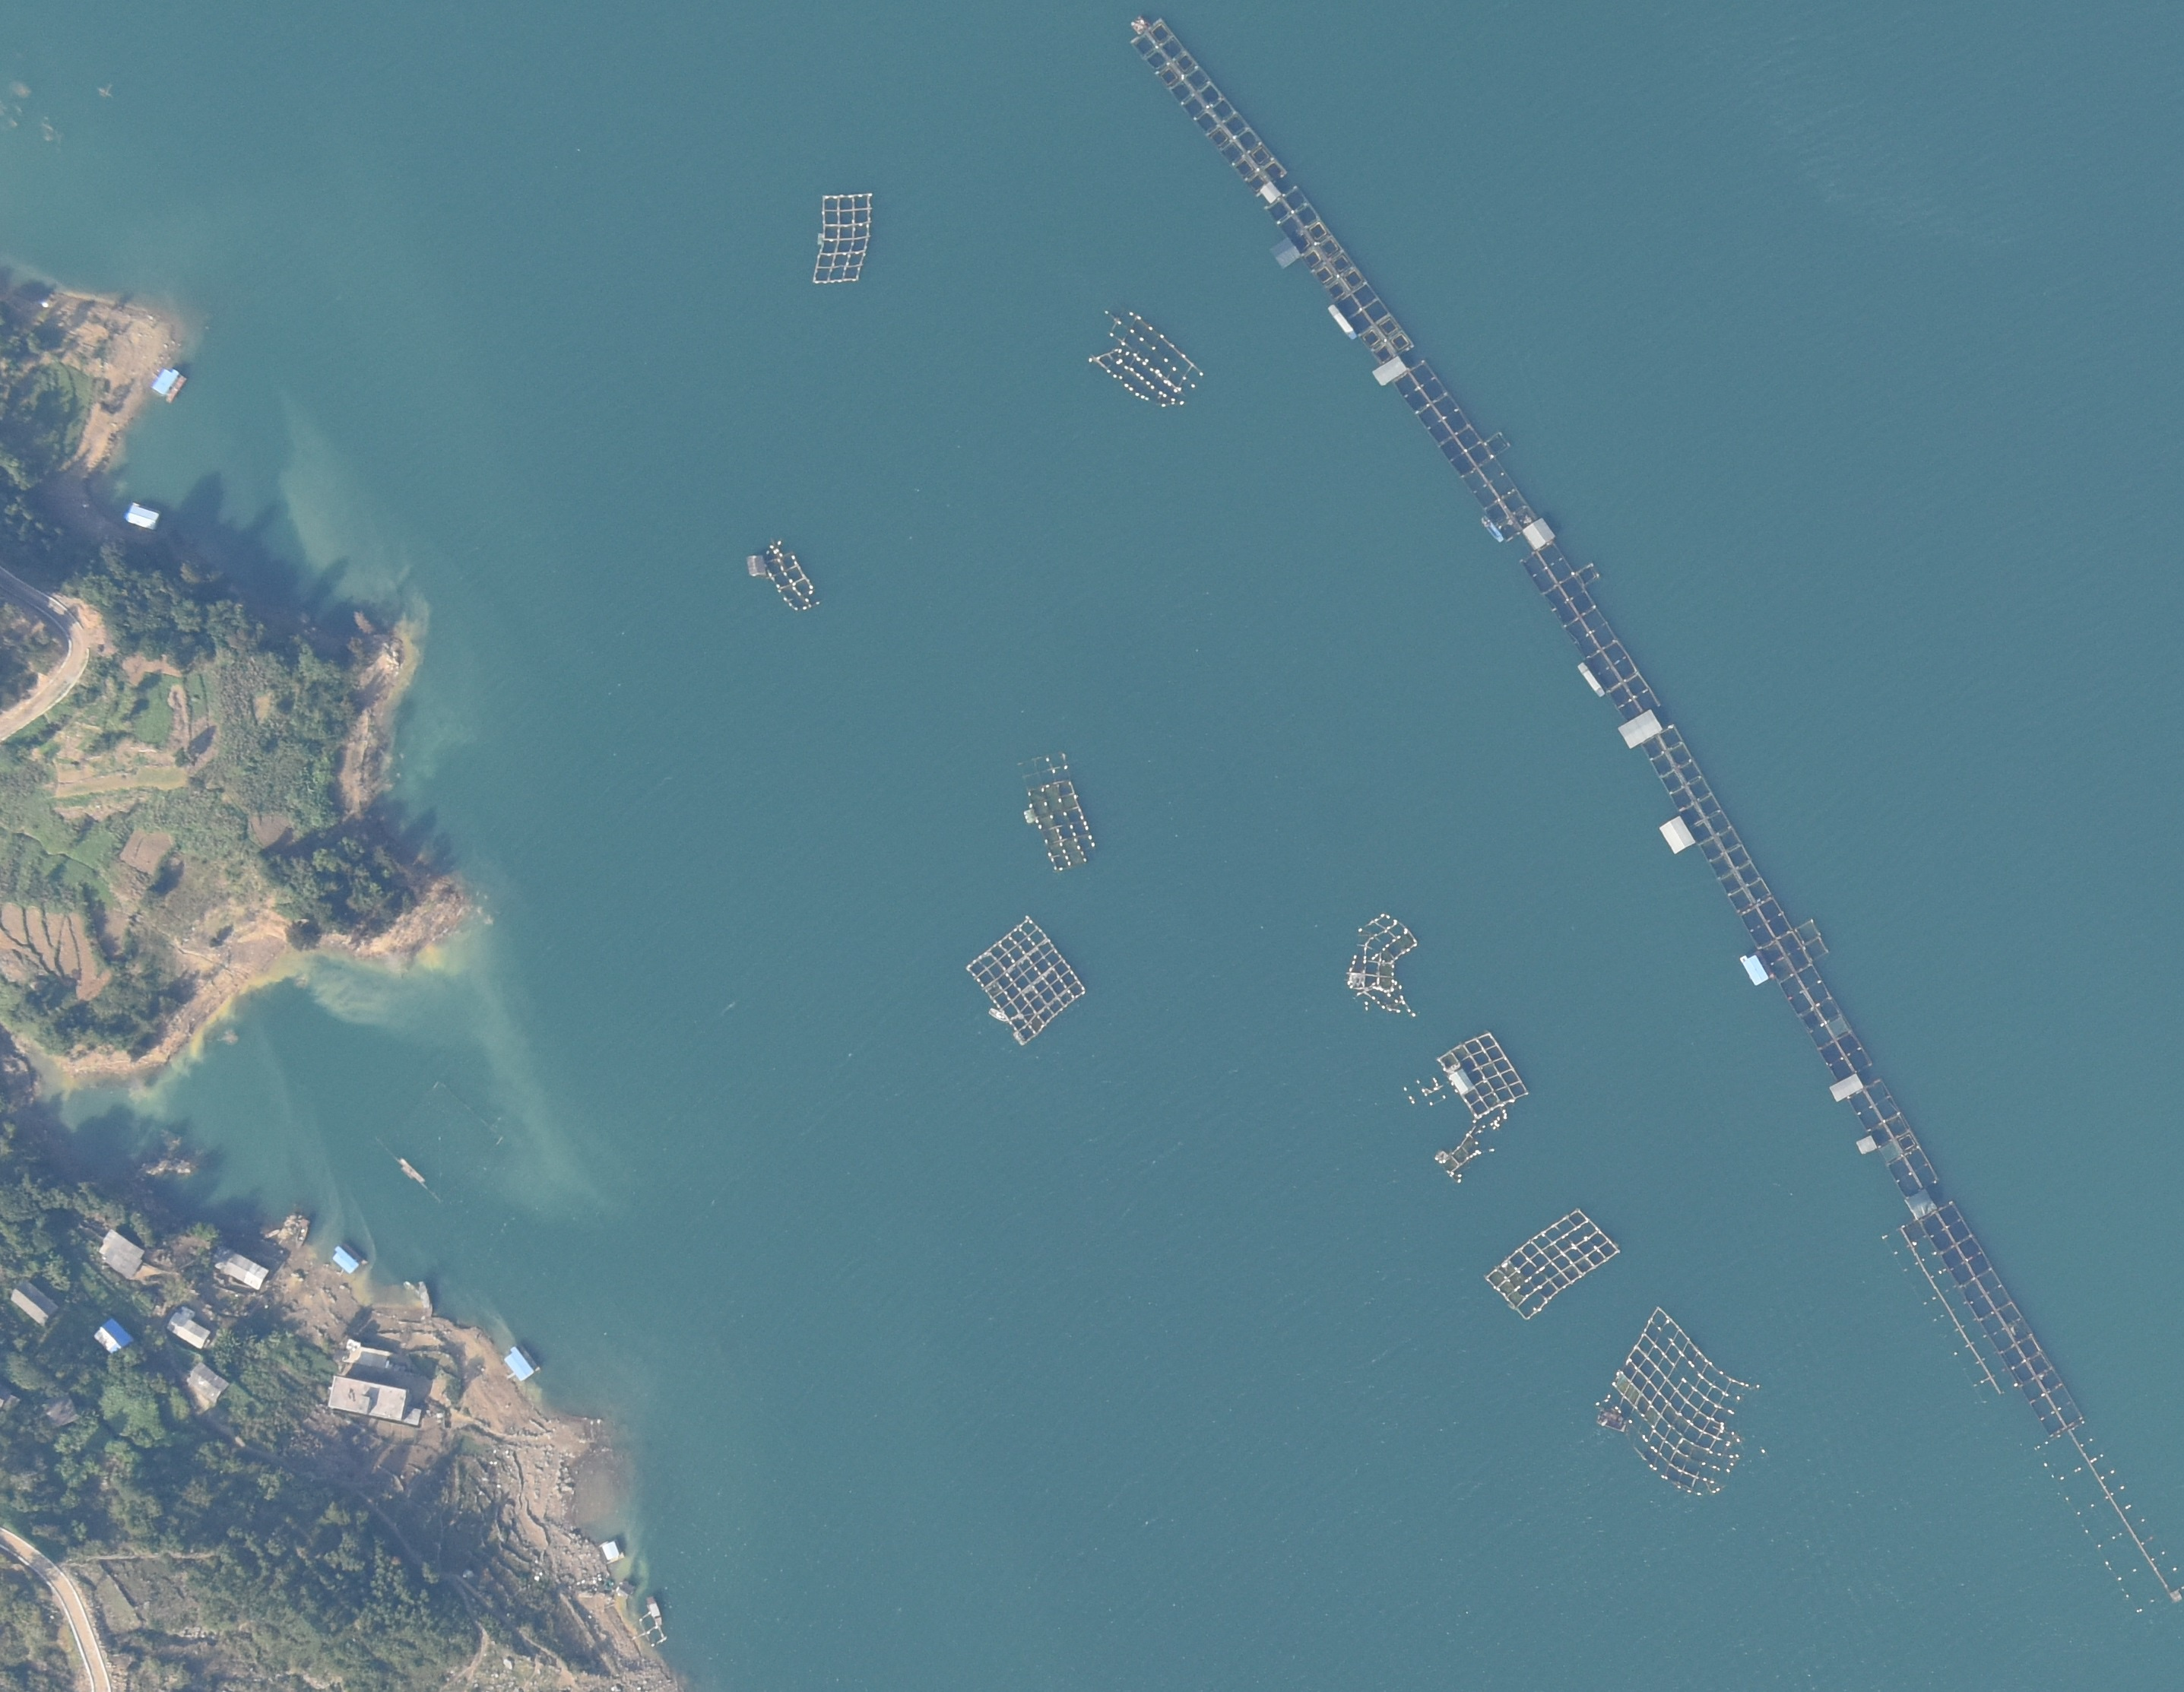building: (326, 1375, 422, 1430), (211, 1246, 269, 1290), (99, 1226, 145, 1279), (11, 1279, 59, 1327), (186, 1362, 229, 1403), (165, 1313, 211, 1350), (43, 1394, 80, 1428)
cultivation-mesh-cage: (1883, 1203, 2184, 1614), (1642, 723, 1874, 1079), (1597, 1304, 1767, 1497), (1127, 16, 1287, 193), (1264, 188, 1413, 365), (1392, 360, 1537, 540), (1521, 539, 1659, 723), (1402, 1033, 1533, 1187), (1482, 1207, 1624, 1322), (968, 916, 1087, 1045), (1087, 305, 1207, 413), (1849, 1081, 1939, 1196), (1014, 749, 1099, 870), (1345, 914, 1423, 1017), (814, 193, 876, 285), (764, 540, 823, 613)
prefabricated-house: (94, 1318, 142, 1364), (1617, 709, 1661, 748), (1657, 813, 1695, 854), (151, 365, 186, 402), (503, 1345, 539, 1380), (330, 1242, 365, 1274), (1269, 234, 1301, 269), (1523, 517, 1555, 551), (1739, 953, 1771, 985), (126, 503, 160, 533), (1374, 358, 1406, 386), (1829, 1074, 1863, 1100), (1906, 1189, 1936, 1217), (1450, 1067, 1473, 1095), (746, 555, 769, 578), (1259, 181, 1282, 204), (601, 1541, 624, 1563), (1856, 1134, 1877, 1153)
ship: (1326, 301, 1360, 340), (1576, 661, 1608, 698), (1480, 514, 1505, 542), (645, 1595, 665, 1626), (987, 1006, 1009, 1024)
